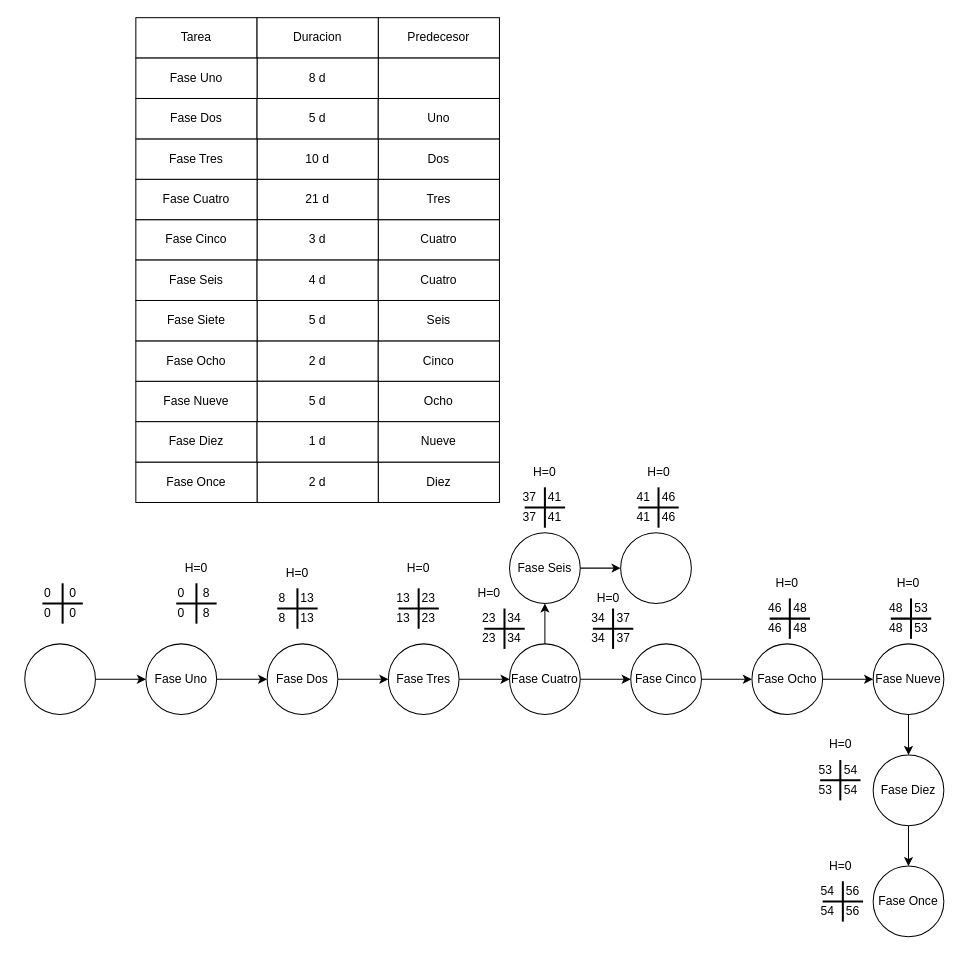
Image size: 969x954. Some labels were removed from this diagram. Here are the shapes that lost their labels. From the top down, the centre of each, then its label:
At (x=655, y=567): "Fase Sieste".
At (x=59, y=679): "Inicio".
